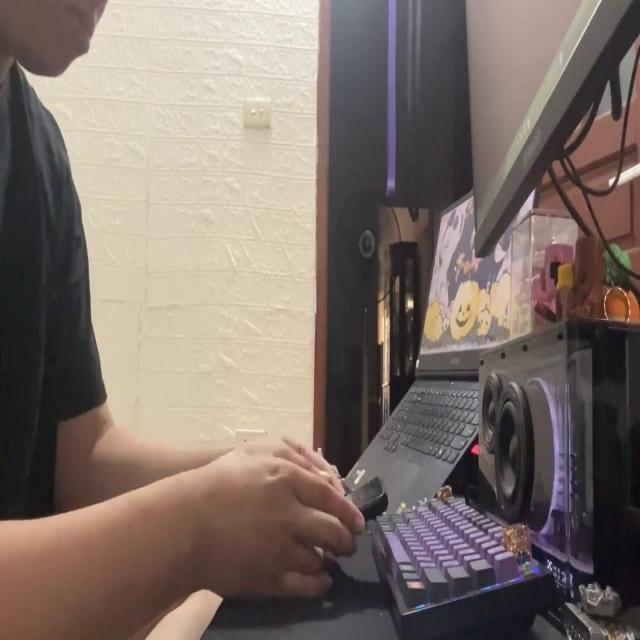laptop: (1, 0, 364, 640), (337, 172, 542, 534), (461, 0, 640, 263)
phone: (346, 470, 387, 524)
